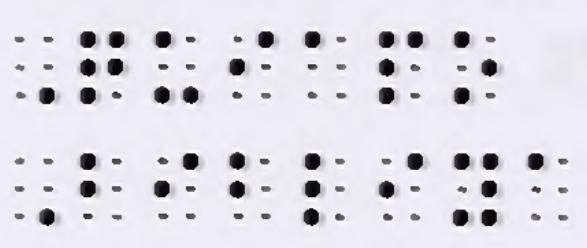capital_sign: (15, 157, 56, 227), (15, 35, 54, 104)
letter_B: (79, 153, 122, 220)
letter_Q: (80, 31, 124, 105)
letter_a: (305, 30, 347, 99), (528, 153, 569, 221)
letter_b: (229, 152, 272, 220)
letter_i: (229, 31, 274, 100), (154, 152, 199, 220), (379, 153, 423, 222)
letter_l: (304, 154, 345, 225)
letter_o: (454, 31, 498, 105)
letter_p: (379, 31, 423, 104)
letter_u: (153, 31, 198, 105)
letter_y: (452, 152, 499, 226)
